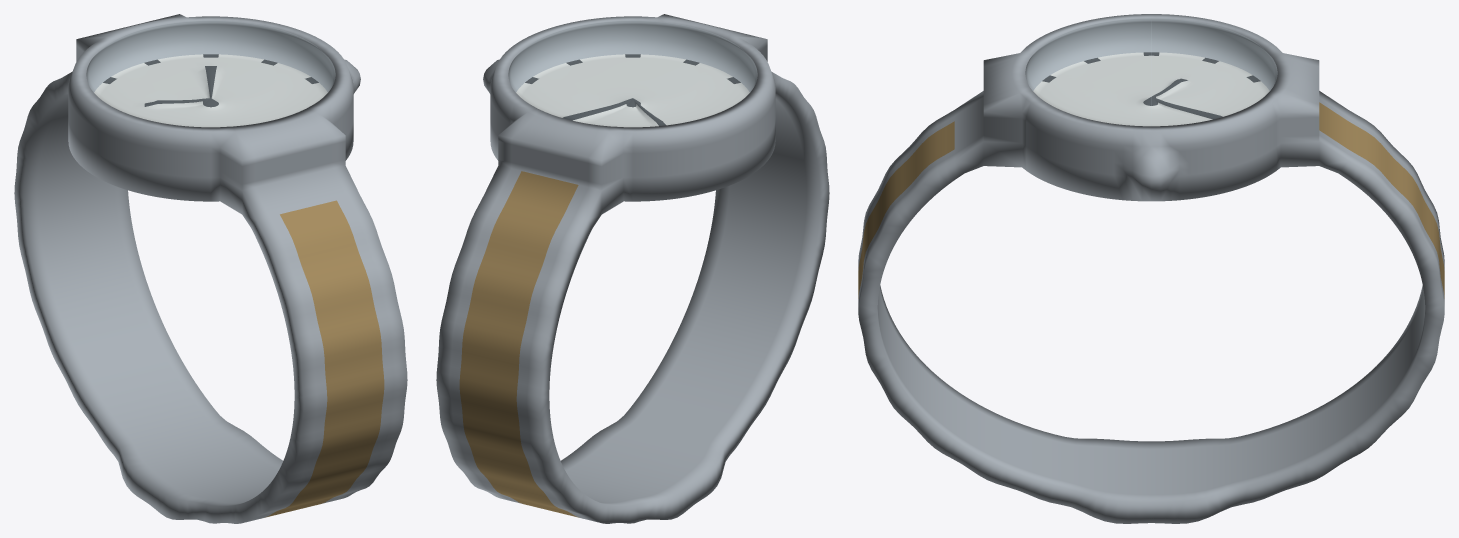
File: A-NEW-20261027-WRISTWATCH-001_LOD0_R3.glb
3 views of the same model, side by side, from view 1: azimuth 30°, elevation 25°; view 2: azimuth 150°, elevation 25°; view 3: azimuth 270°, elevation 25° (orthographic).
Visible parts, largest first — view 1: original wristwatch case dial crown and linked band, plain clear protective crystal; view 2: original wristwatch case dial crown and linked band, plain clear protective crystal; view 3: original wristwatch case dial crown and linked band, plain clear protective crystal.
Boxes of the visible parts, bbox=[...] form: original wristwatch case dial crown and linked band: bbox=[14, 14, 407, 523]; plain clear protective crystal: bbox=[86, 21, 335, 126]; original wristwatch case dial crown and linked band: bbox=[436, 14, 829, 523]; plain clear protective crystal: bbox=[508, 21, 757, 126]; original wristwatch case dial crown and linked band: bbox=[858, 14, 1444, 523]; plain clear protective crystal: bbox=[1025, 18, 1277, 125].
Size of the model in its own units: 0.0472 by 0.0697 by 0.0874.
